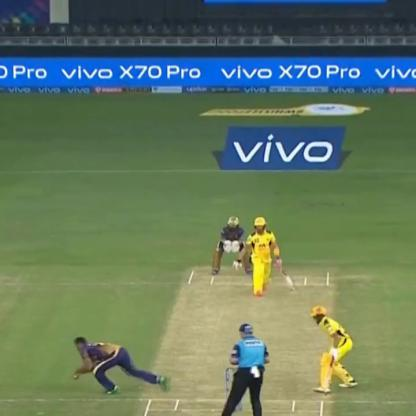ball: (145, 259, 340, 409), (71, 371, 82, 380)
